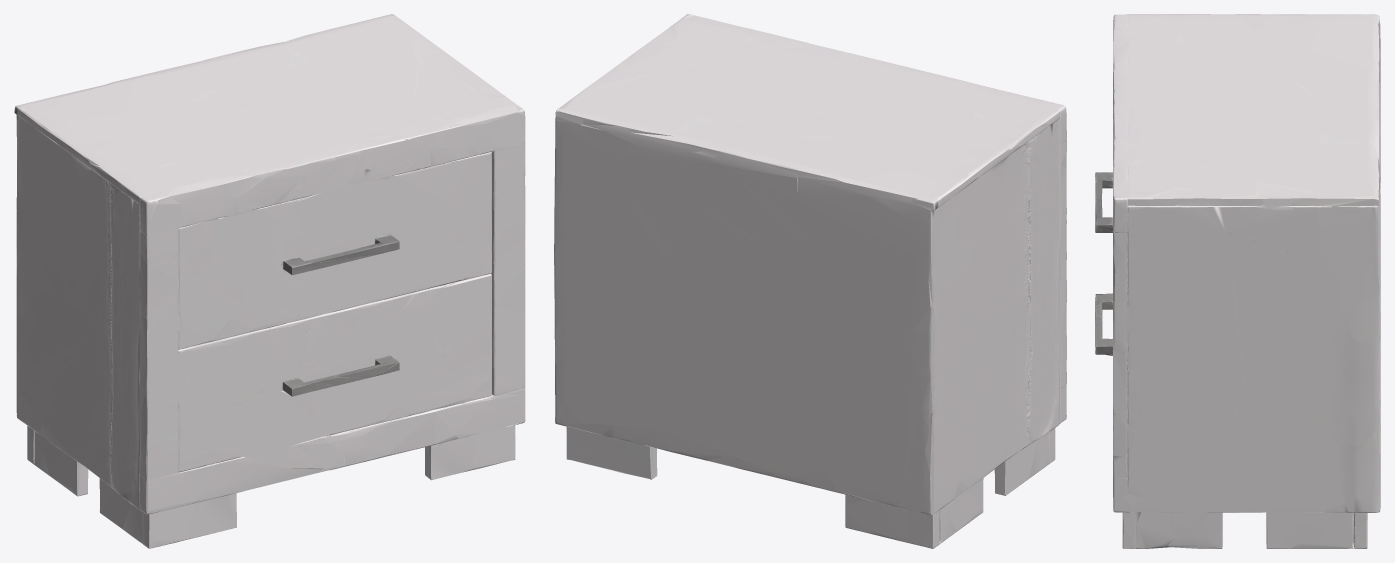
File: homedepot-com-p-coaster-2-drawer-white-jessica-nightstand-20-91e6c5.glb
3 views of the same model, side by side, from view 1: azimuth 30°, elevation 25°; view 2: azimuth 150°, elevation 25°; view 3: azimuth 270°, elevation 25° (orthographic).
Visible parts, largest first — view 1: Mesh_0; view 2: Mesh_0; view 3: Mesh_0.
Part boxes in pixels (x1,y1,x2,y2): Mesh_0: [14, 14, 525, 548]; Mesh_0: [554, 14, 1066, 548]; Mesh_0: [1095, 14, 1380, 548].
Size of the model in its own units: 1.9 by 1.68 by 1.23.
1 material, 1 textured.
